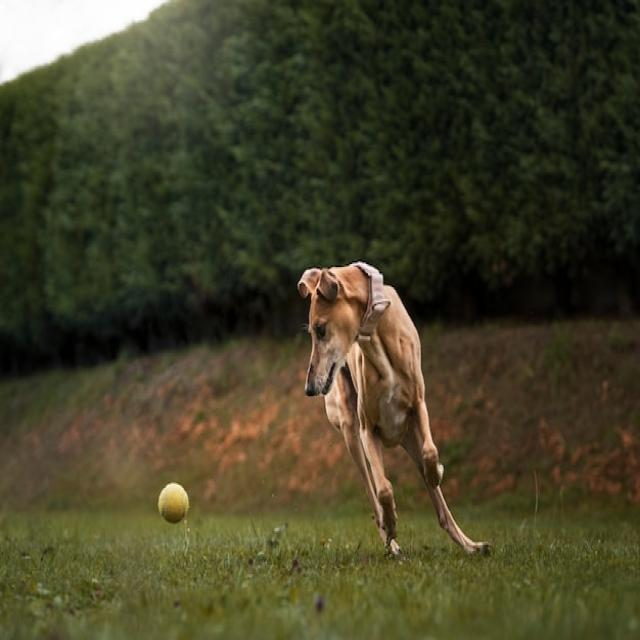Dog: (298, 263, 492, 556)
